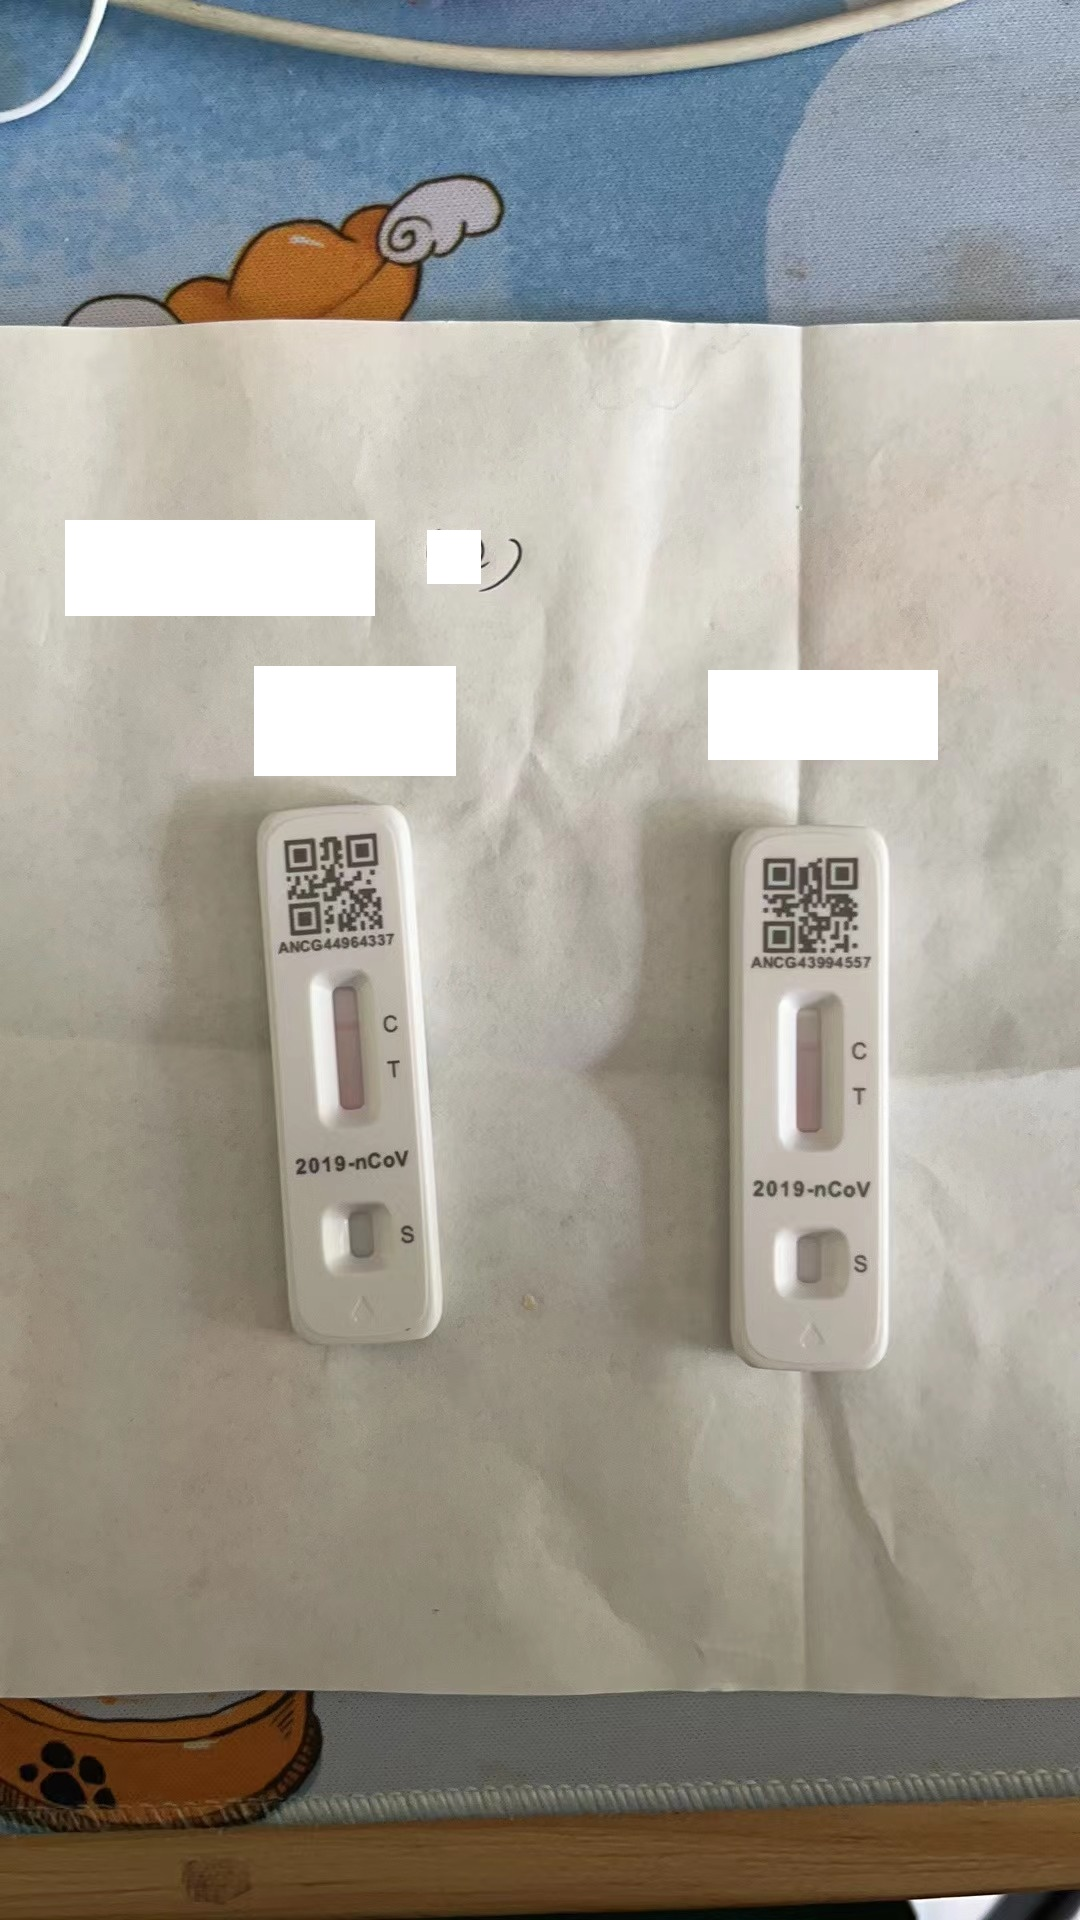negative: (775, 990, 843, 1150), (313, 967, 377, 1125)
